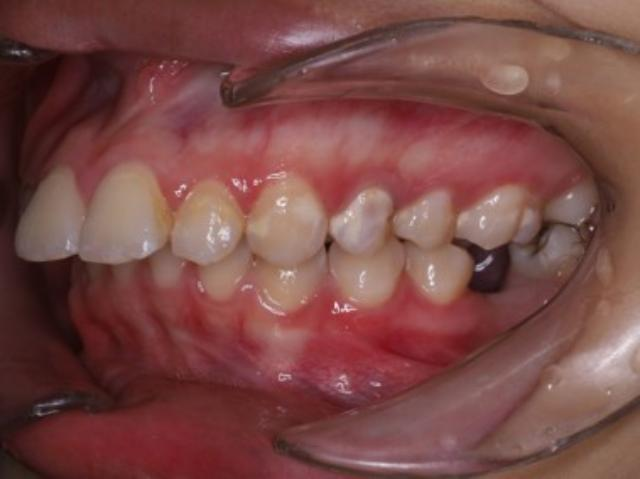canine class II 1/2: (244, 170, 404, 318)
